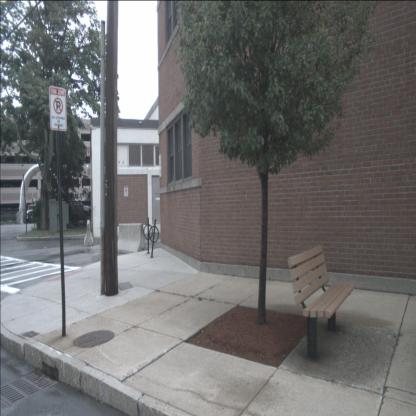movable_object-barrier: (114, 223, 148, 254), (83, 219, 94, 246)
vehicle-car: (55, 196, 92, 223), (27, 204, 40, 224)
vehicle-truck: (38, 193, 84, 226)
